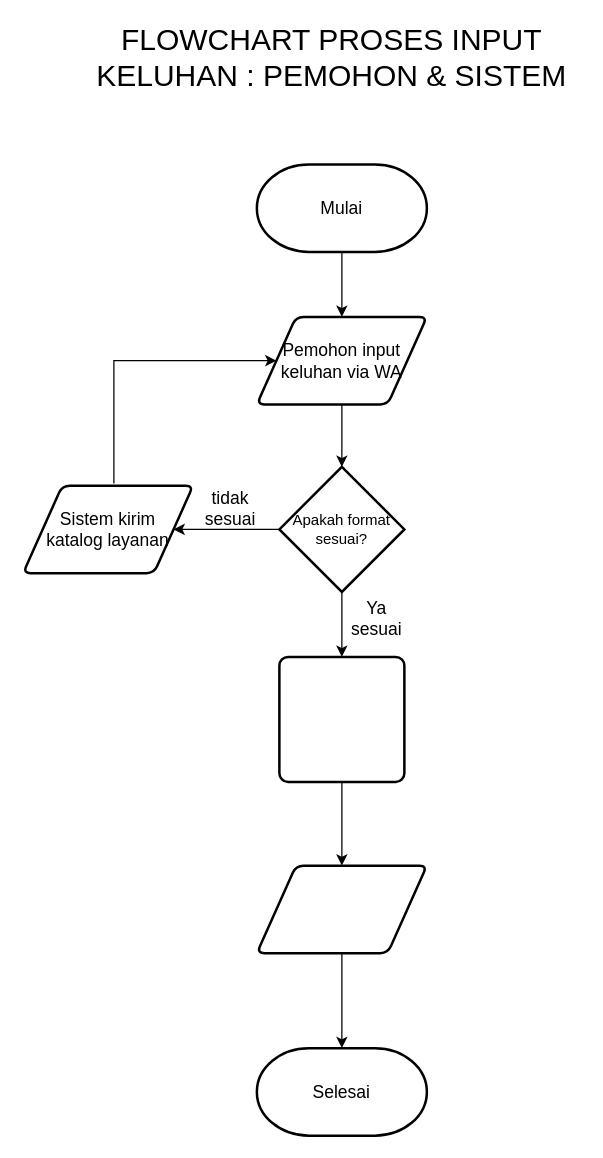
Some shapes in this 603 by 1158 pixel diagram are drawn without their labels. The centre of each missing label's shape, as x and y in pixels:
"Sistem membuat tiket" goes at (341,718).
"Tiket berhasil dibuat" goes at (341,909).
